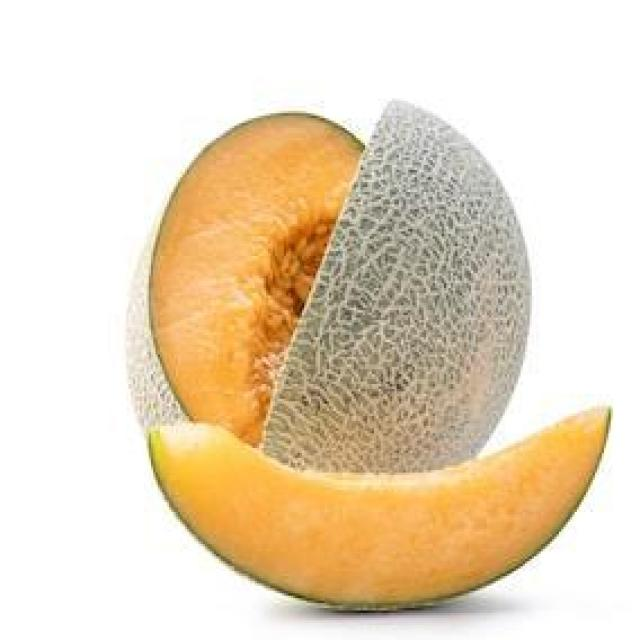cantaloupe: (125, 100, 532, 424), (142, 408, 610, 614)
